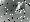person: (16, 4, 23, 15), (22, 5, 29, 14)
